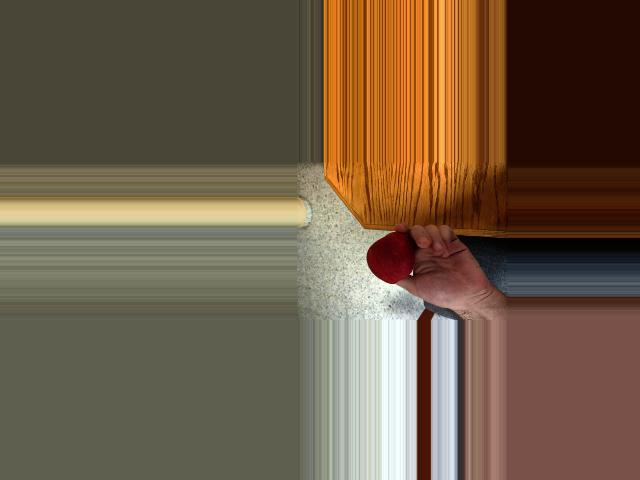apple: (366, 234, 413, 283)
